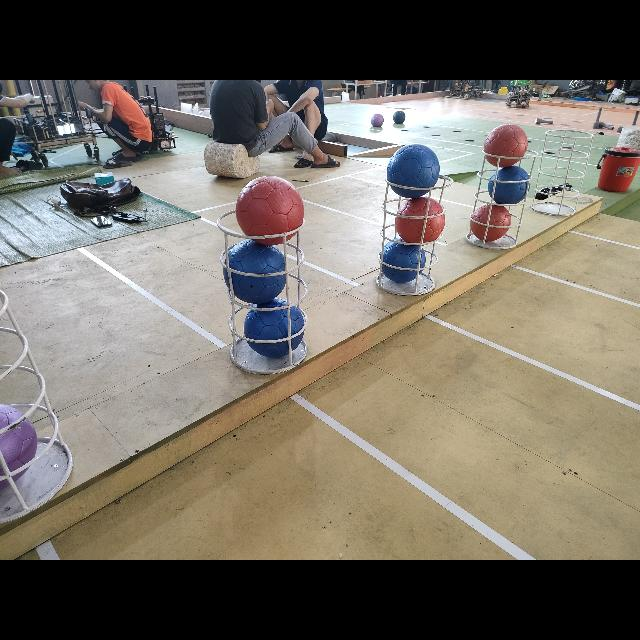B: (224, 240, 286, 302), (243, 299, 304, 359), (386, 142, 440, 195), (379, 240, 426, 282), (487, 167, 531, 205)
R: (235, 176, 305, 244), (394, 196, 446, 244), (484, 122, 528, 166), (471, 203, 512, 240)
